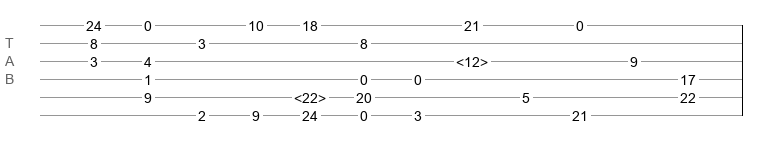0: (144, 18, 152, 28), (360, 72, 368, 82), (360, 108, 368, 118), (414, 72, 422, 82), (576, 18, 584, 28)
1: (144, 72, 152, 82)
10: (248, 18, 264, 28)
17: (680, 72, 696, 82)
18: (302, 18, 318, 28)
2: (198, 108, 206, 118)
20: (356, 90, 372, 100)
21: (464, 18, 480, 28), (572, 108, 588, 118)
22: (680, 90, 696, 100)
24: (86, 18, 102, 28), (302, 108, 318, 118)
3: (90, 54, 98, 64), (198, 36, 206, 46), (414, 108, 422, 118)
4: (144, 54, 152, 64)
5: (522, 90, 530, 100)
8: (90, 36, 98, 46), (360, 36, 368, 46)
9: (144, 90, 152, 100), (252, 108, 260, 118), (630, 54, 638, 64)
harmonic: (294, 90, 326, 100), (456, 54, 488, 64)
